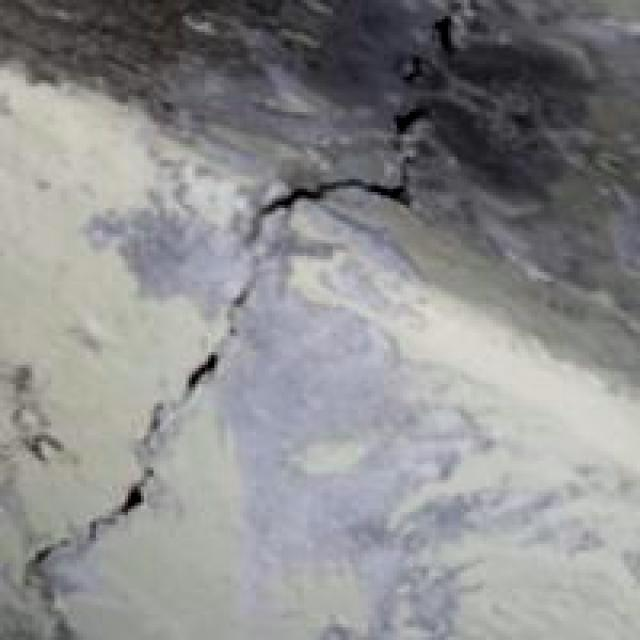crack: (28, 18, 482, 572)
